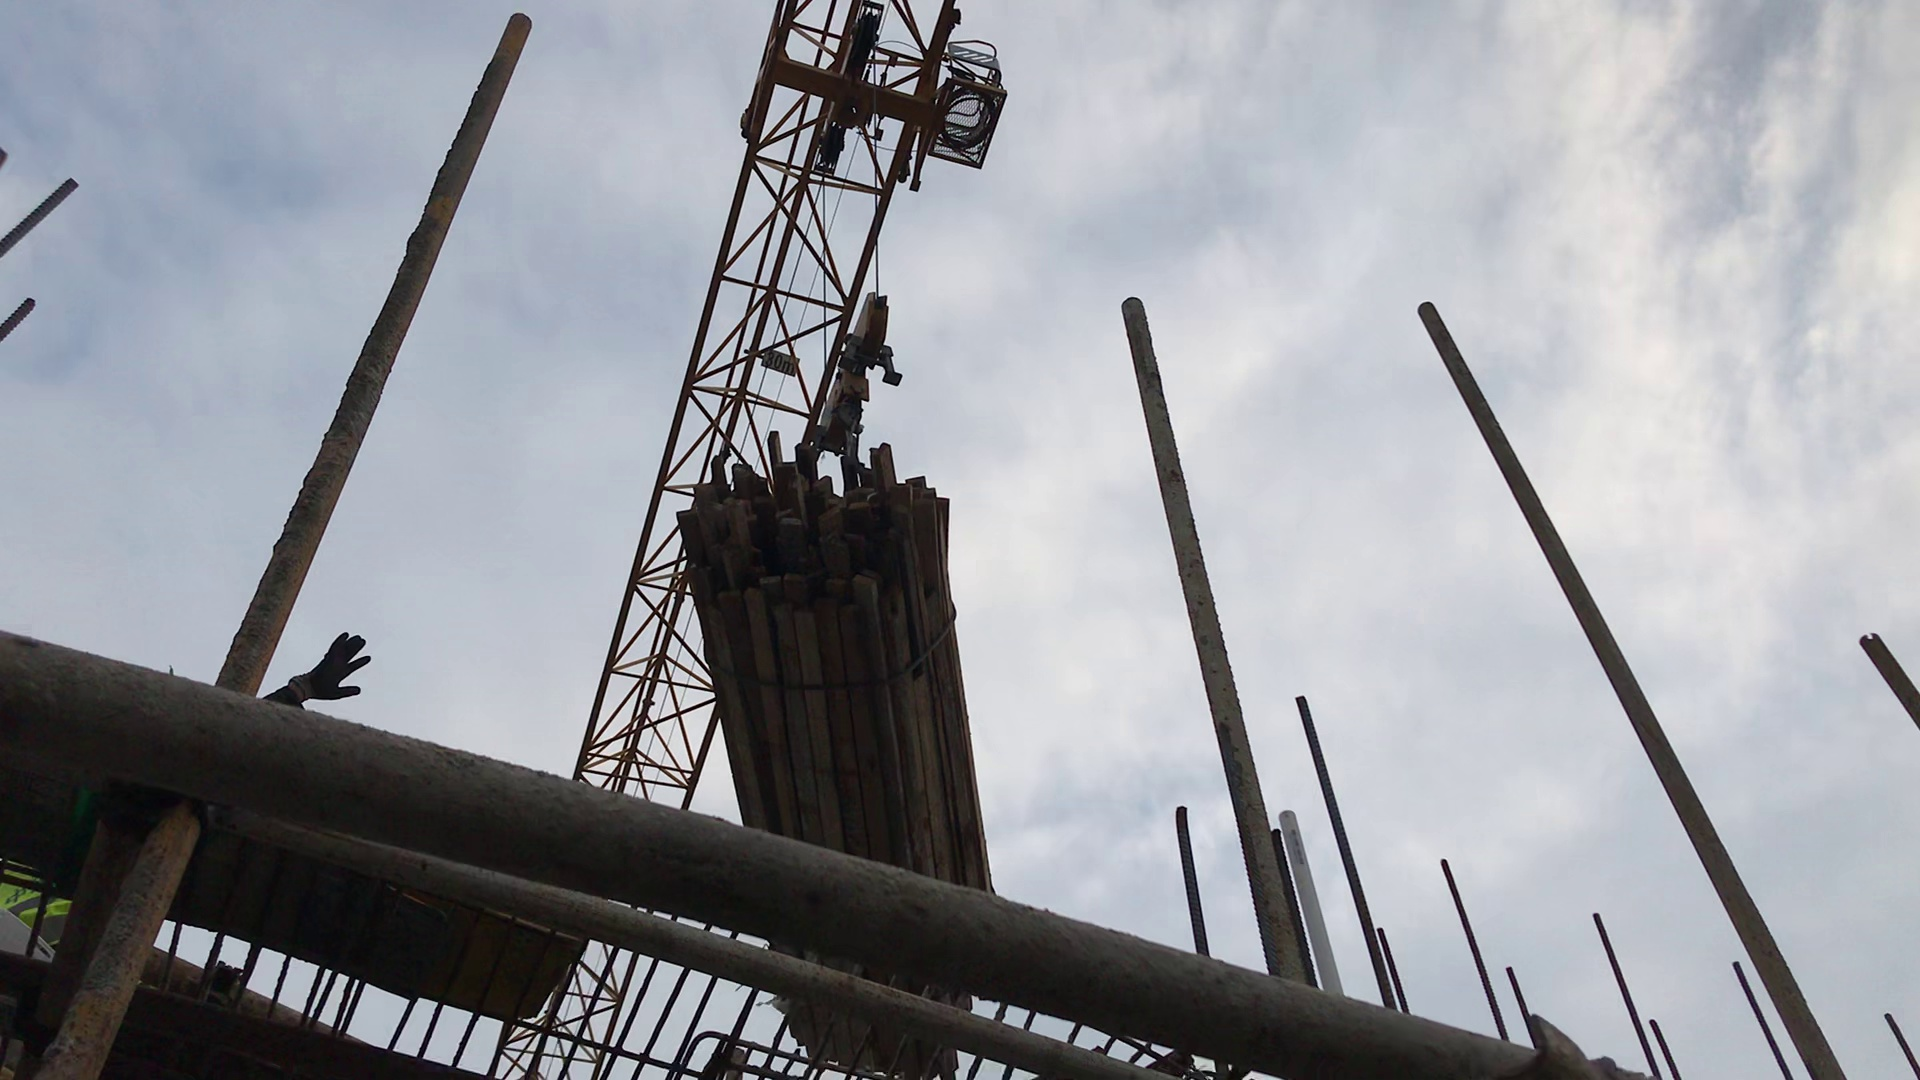hook: (800, 290, 911, 448)
wood: (626, 426, 1011, 1065)
